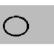no answer: (1, 15, 35, 40)
